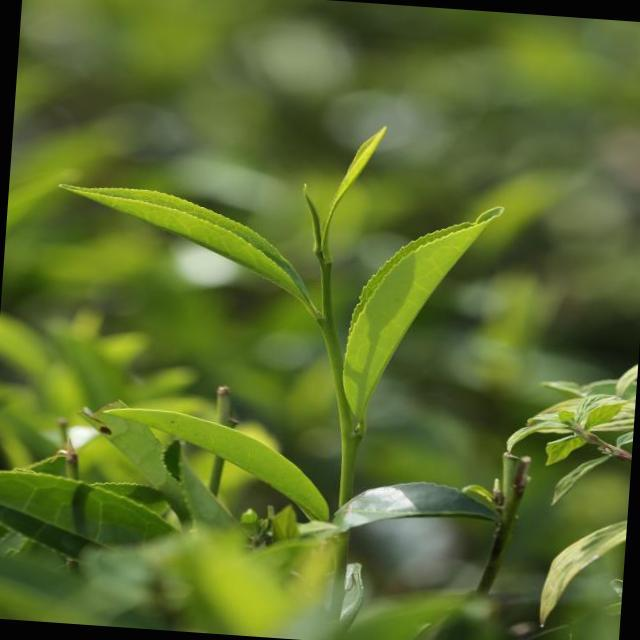Stem: (321, 264, 330, 280)
